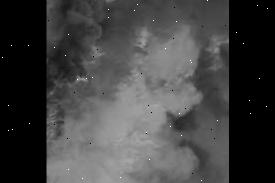fire: (71, 0, 229, 180)
